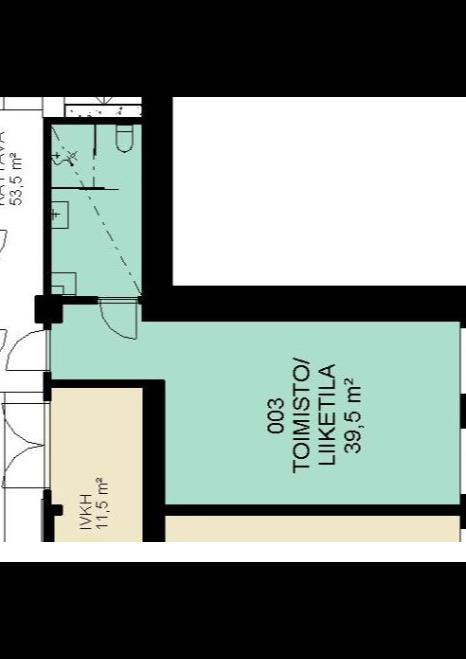door: (3, 327, 55, 376), (0, 443, 51, 492), (1, 397, 53, 444), (97, 292, 140, 340)
window: (453, 422, 466, 502), (456, 321, 466, 398), (455, 523, 466, 547)
